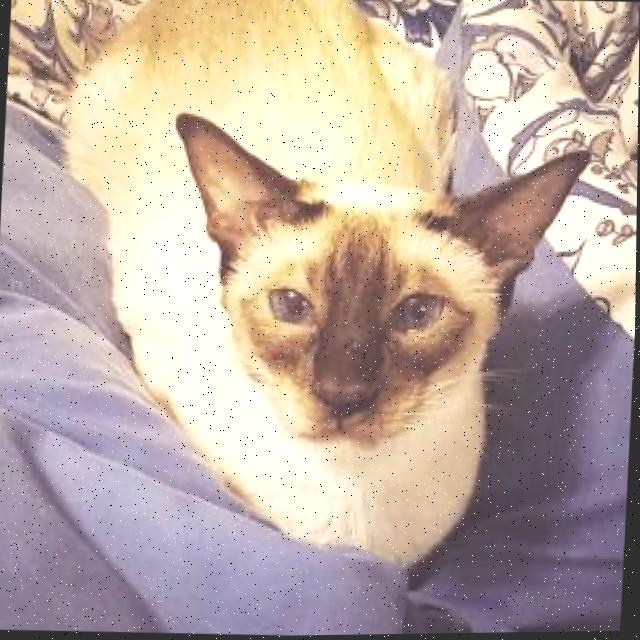Siamese: (36, 0, 606, 584)
